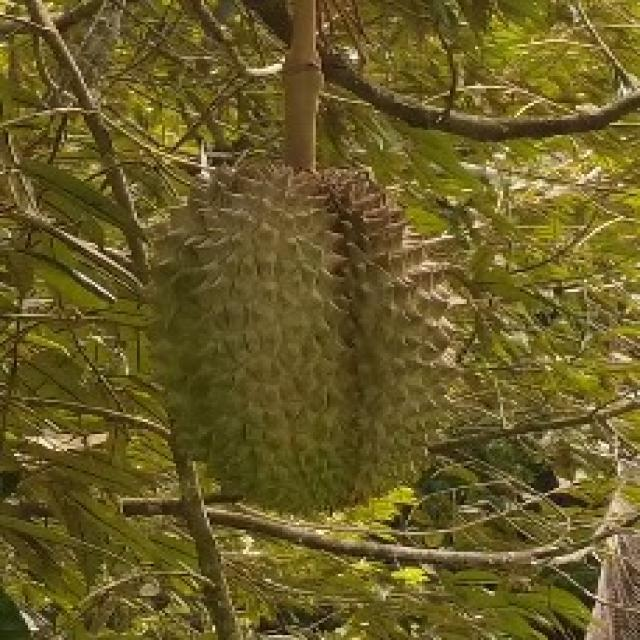mature: (143, 160, 459, 518)
